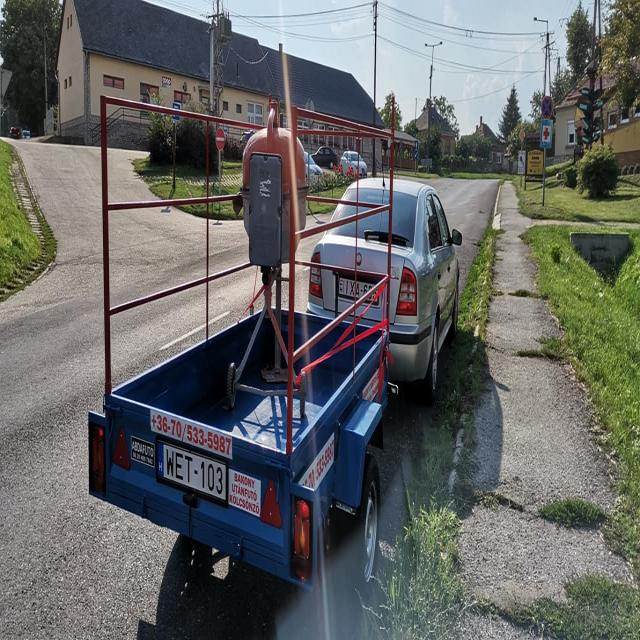trailer: (88, 305, 389, 592)
